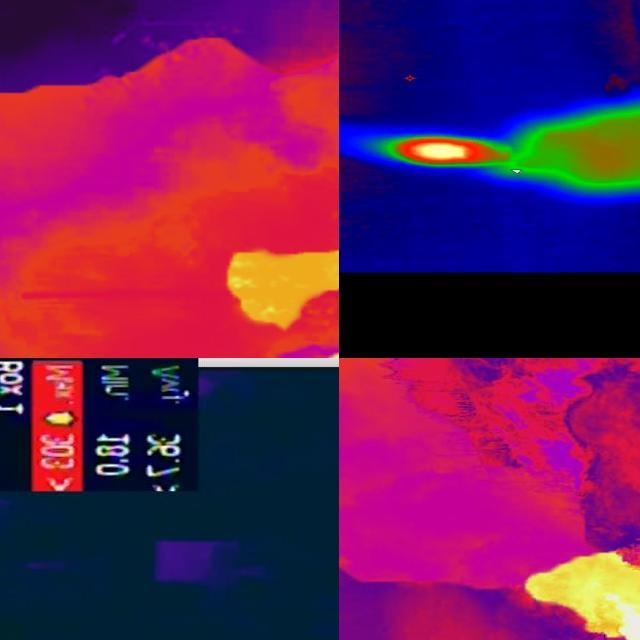fire: (226, 247, 339, 334), (533, 550, 640, 640), (391, 135, 506, 168)
